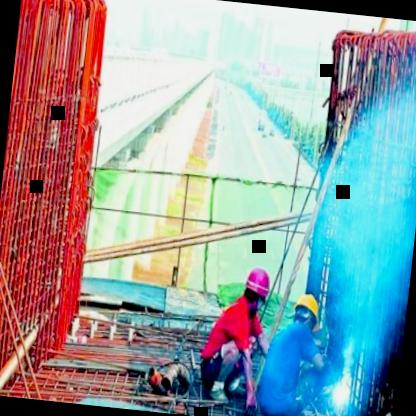helmet: (240, 262, 274, 310), (290, 292, 324, 334)
